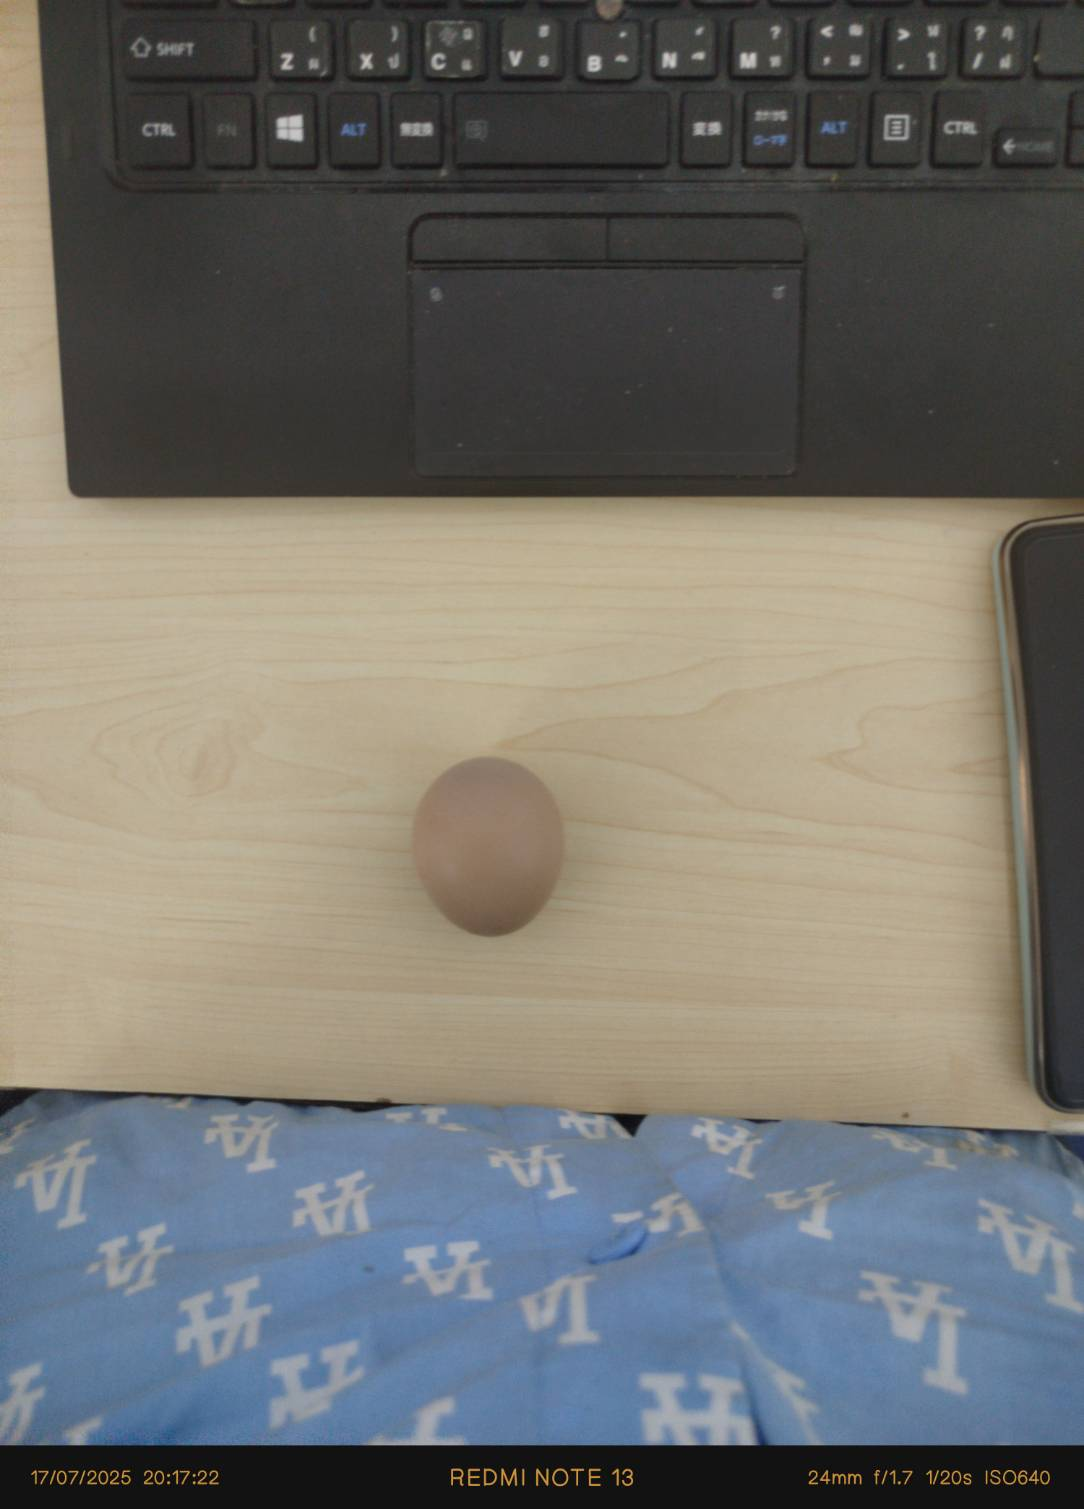egg1: (408, 751, 574, 935)
